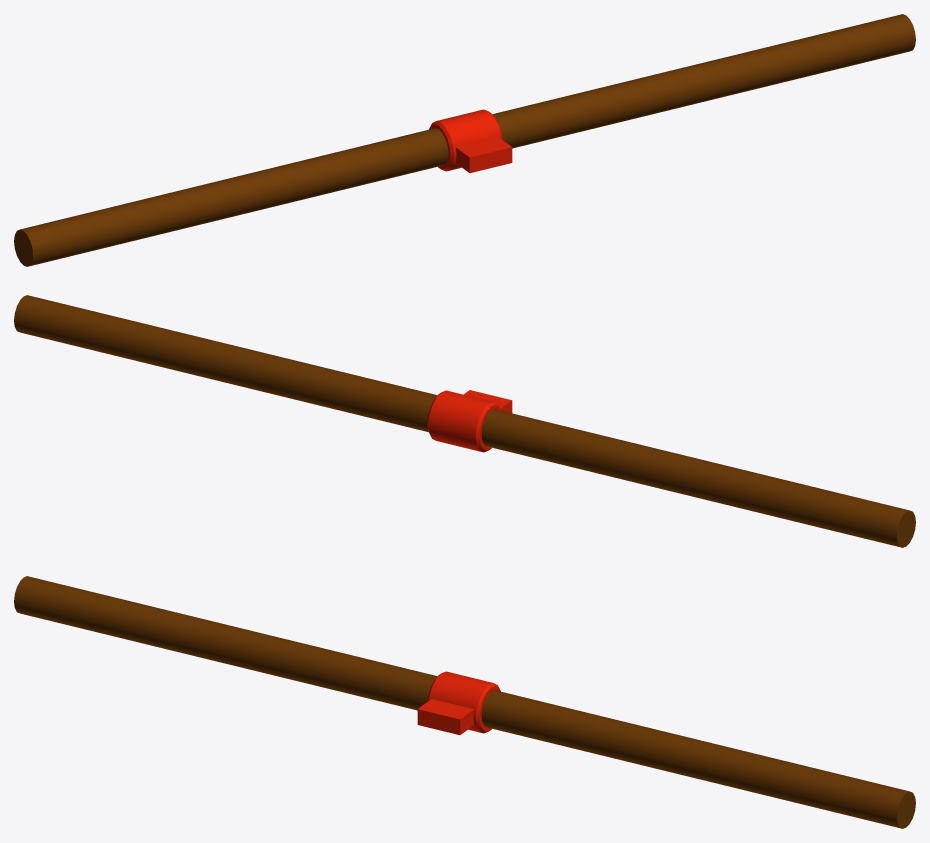
File: Rail.fbx
The picture shows the model from 3 angles, top to bottom: view 1: azimuth 30°, elevation 25°; view 2: azimuth 150°, elevation 25°; view 3: azimuth 330°, elevation 25°; orthographic projection.
Parts seen in each view (by area): view 1: Rail; view 2: Rail; view 3: Rail.
Boxes of the visible parts, x1,y1,x2,y2 form: Rail: (14, 14, 915, 266); Rail: (14, 295, 915, 547); Rail: (14, 576, 915, 828).
Bounding box in the file's own units: 2 × 0.1014 × 0.153.
